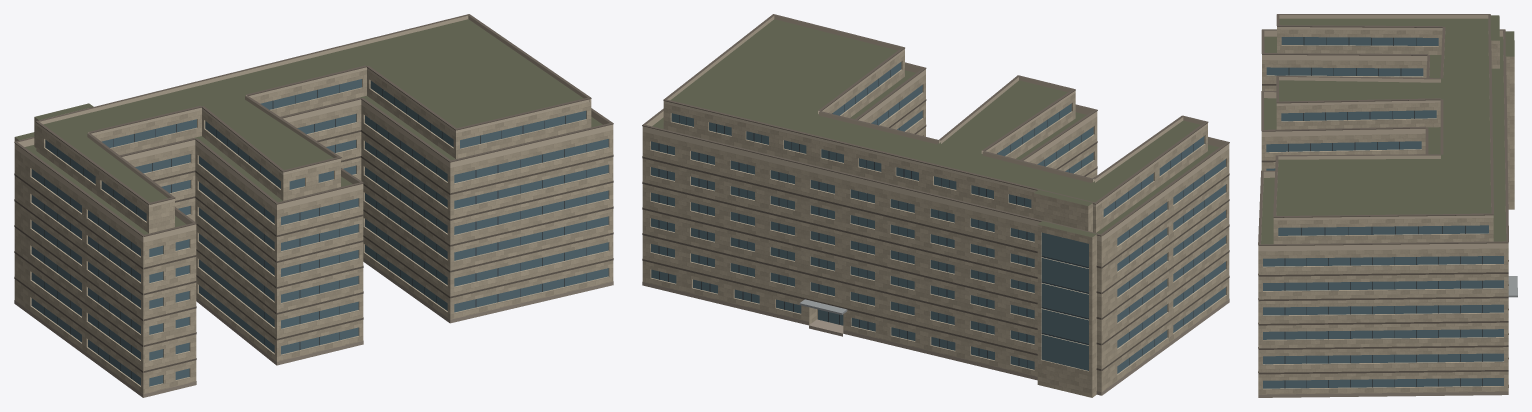
3 views of the same model, side by side, from view 1: azimuth 30°, elevation 25°; view 2: azimuth 150°, elevation 25°; view 3: azimuth 270°, elevation 25° (orthographic). The views are drawn at different scales.
Parts seen in each view (by area): view 1: shinsegae__wall, shinsegae__glass, shinsegae__roof, shinsegae__trim, shinsegae__parapet, shinsegae__base, shinsegae__frame; view 2: shinsegae__wall, shinsegae__glass, shinsegae__roof, shinsegae__trim, shinsegae__parapet, shinsegae__base, shinsegae__frame; view 3: shinsegae__wall, shinsegae__roof, shinsegae__glass, shinsegae__trim, shinsegae__parapet, shinsegae__base, shinsegae__frame.
Boxes of the visible parts, x1,y1,x2,y2 form: shinsegae__wall: (14, 70, 613, 397); shinsegae__glass: (31, 79, 608, 386); shinsegae__roof: (15, 19, 602, 234); shinsegae__trim: (14, 14, 613, 372); shinsegae__parapet: (14, 15, 613, 242); shinsegae__base: (14, 258, 613, 397); shinsegae__frame: (44, 84, 586, 378); shinsegae__wall: (642, 51, 1229, 397); shinsegae__glass: (651, 62, 1225, 373); shinsegae__roof: (652, 19, 1219, 237); shinsegae__trim: (642, 14, 1229, 370); shinsegae__parapet: (642, 15, 1229, 241); shinsegae__base: (642, 282, 1229, 395); shinsegae__frame: (658, 70, 1204, 367); shinsegae__wall: (1258, 29, 1514, 397); shinsegae__roof: (1261, 15, 1514, 244); shinsegae__glass: (1263, 37, 1503, 388); shinsegae__trim: (1258, 14, 1508, 374); shinsegae__parapet: (1258, 15, 1508, 251); shinsegae__base: (1258, 385, 1508, 397); shinsegae__frame: (1284, 37, 1482, 388).
Bounding box in the file's own units: 68.34 × 26.15 × 34.74.
Materials: 9 (1 with a texture image).
